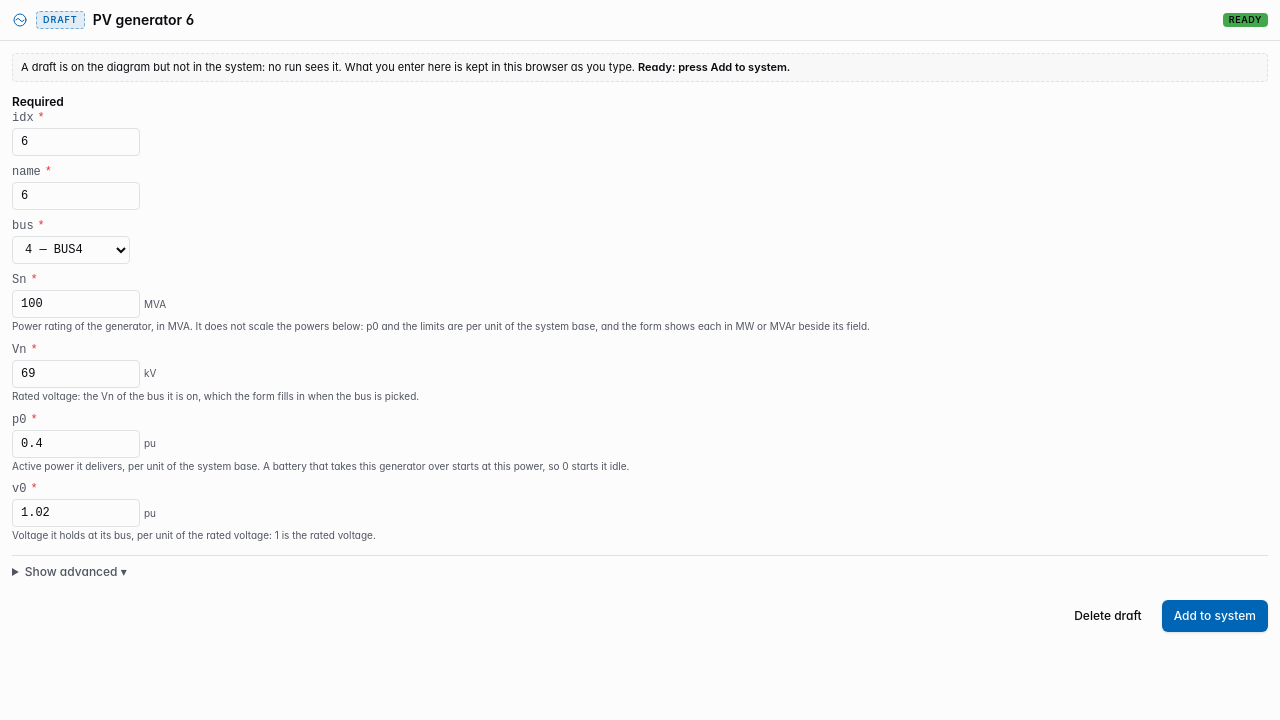
Scenario: <DraftInspector /> › keeps the draft as it is when the server refuses it, and says what the server said
Click the button "Add to system" at coordinates (1215, 616), box left=1162, top=600, right=1268, bottom=632
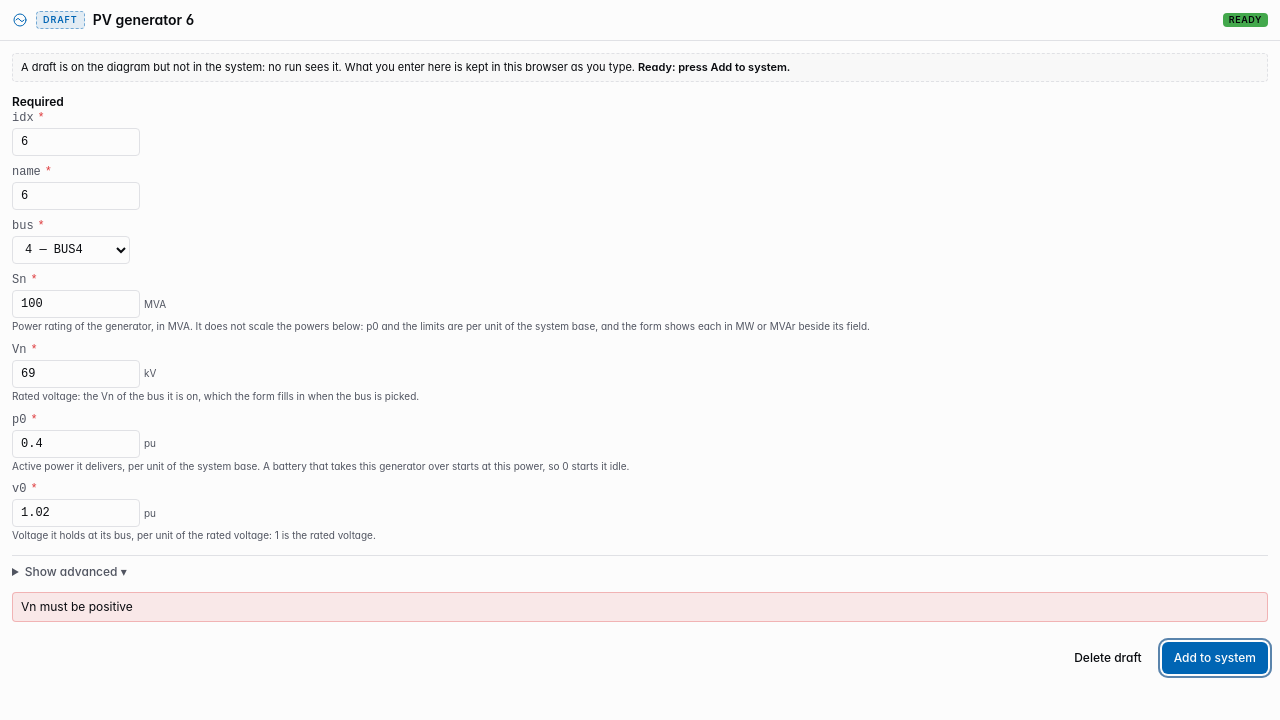
expect the message with test id "form-server-error" reads "Vn must be positive": met, box left=21, top=599, right=133, bottom=614
An edit takes the refusal away: the form no longer holds what was refused.
Type "0" into the number field labelled "Vn * kV" at coordinates (76, 374), box left=12, top=360, right=140, bottom=388
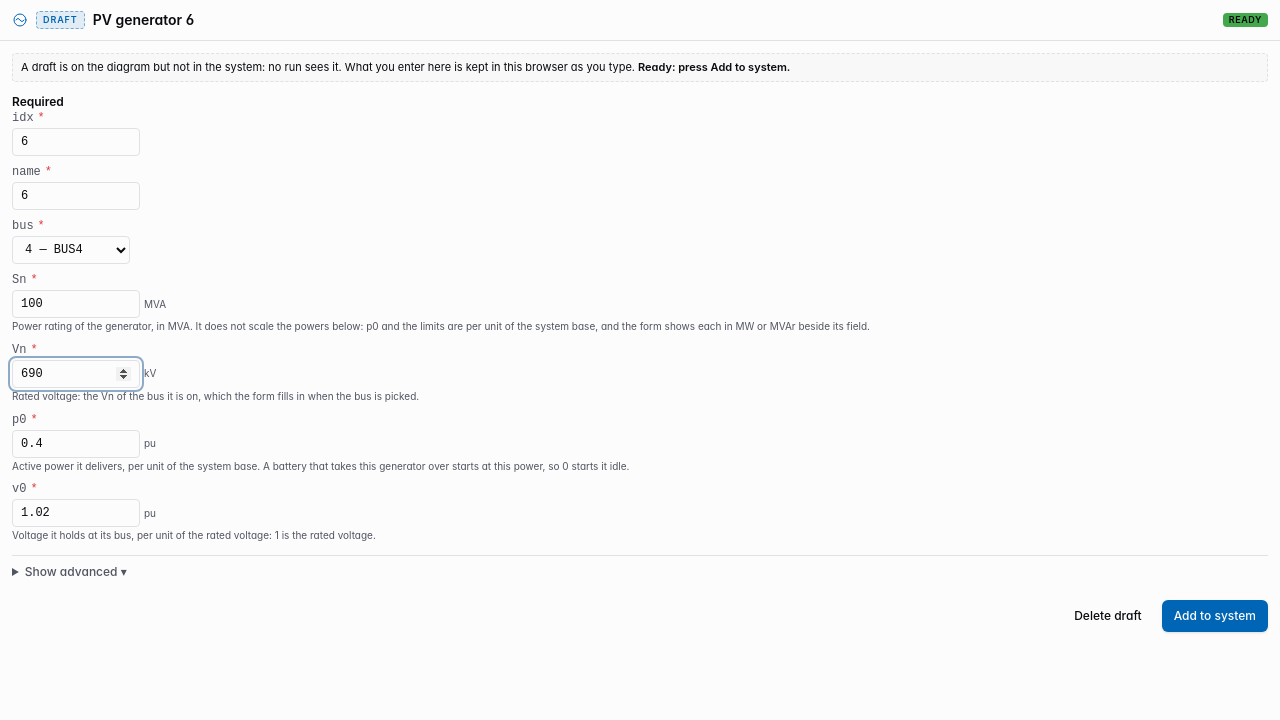
expect the message with test id "form-server-error" is gone: met
